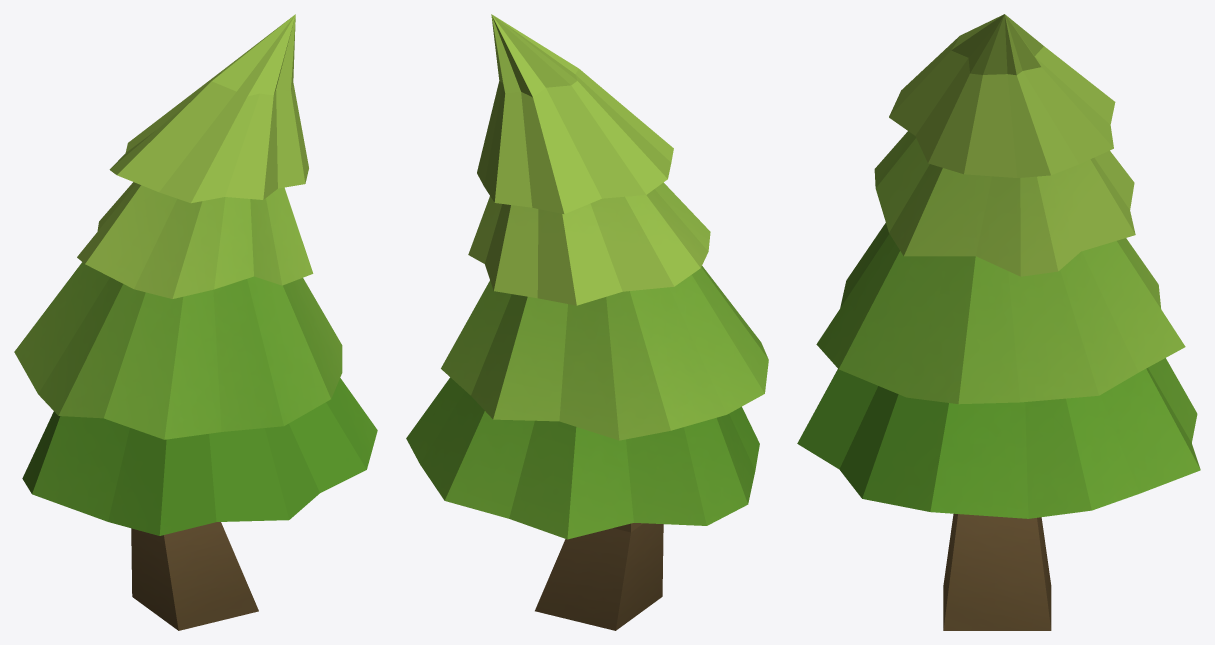
The model's file is tree2.fbx.
The picture shows the model from 3 angles, left to right: view 1: azimuth 30°, elevation 25°; view 2: azimuth 150°, elevation 25°; view 3: azimuth 270°, elevation 25°; orthographic projection. The views are drawn at different scales.
Visible parts, largest first — view 1: Tree3; view 2: Tree3; view 3: Tree3.
Part boxes in pixels (left/top/right/bottom): Tree3: left=14, top=14, right=377, bottom=630; Tree3: left=406, top=14, right=768, bottom=630; Tree3: left=797, top=14, right=1200, bottom=630.
Size of the model in its own units: 3.7 by 6.39 by 3.58.
